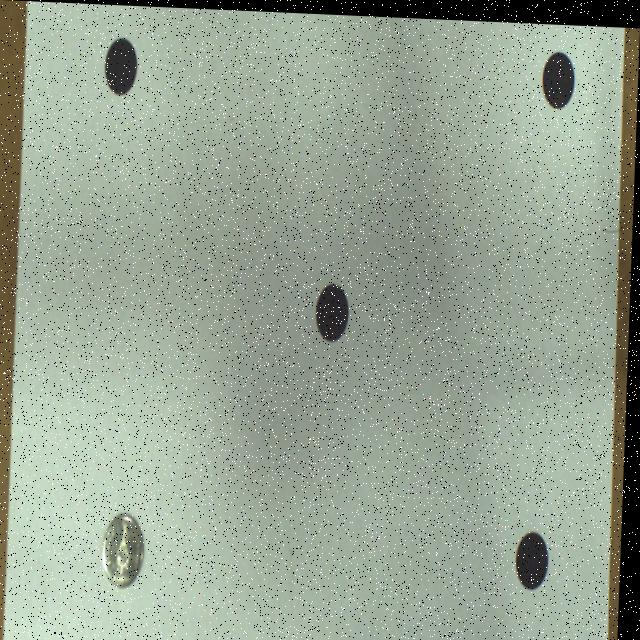space: (106, 512, 148, 586), (319, 280, 351, 338), (520, 526, 552, 584), (543, 47, 575, 104), (106, 37, 138, 94)
